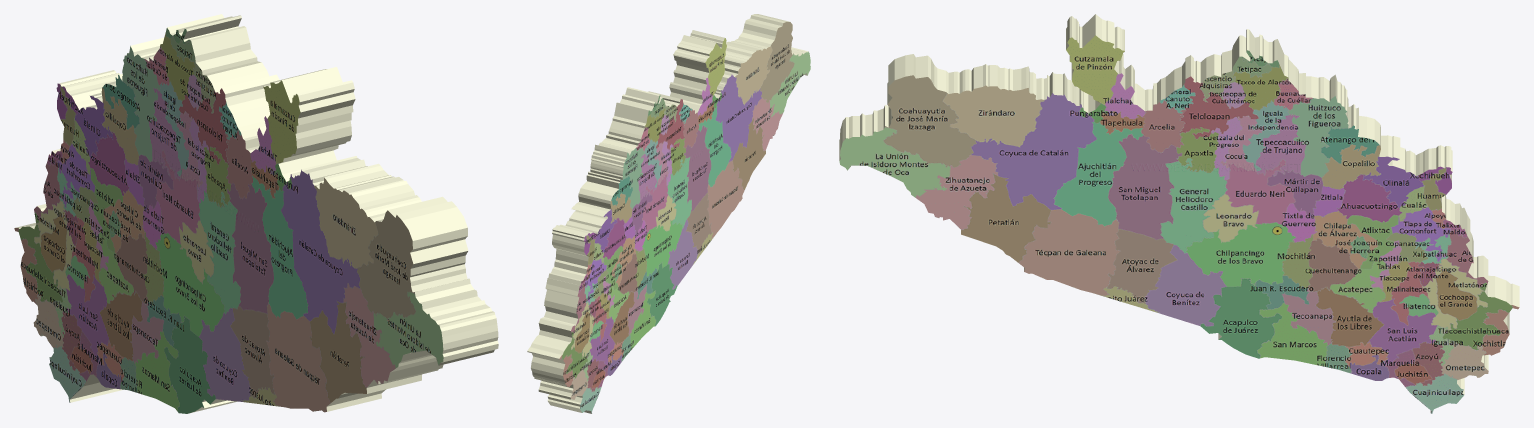
The model's file is guerrero.glb.
3 views of the same model, side by side, from view 1: azimuth 30°, elevation 25°; view 2: azimuth 150°, elevation 25°; view 3: azimuth 270°, elevation 25° (orthographic). The views are drawn at different scales.
Parts seen in each view (by area): view 1: Plano; view 2: Plano; view 3: Plano.
Part boxes in pixels (left/top/right/bottom): Plano: left=14, top=14, right=498, bottom=413; Plano: left=527, top=14, right=810, bottom=413; Plano: left=839, top=14, right=1519, bottom=413.
Size of the model in its own units: 0.138 by 1.14 by 1.86.
Materials: 1 (1 with a texture image).
